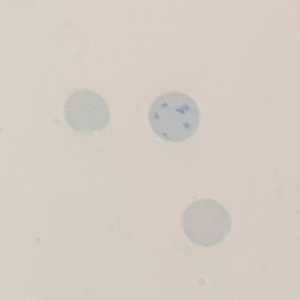aggregate reticulocyte: (146, 91, 203, 144)
erythrocyte: (180, 196, 234, 248), (61, 89, 112, 135)
